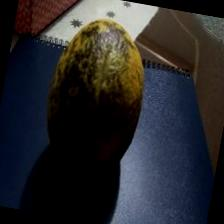Orange Rotten: (27, 2, 171, 202)
